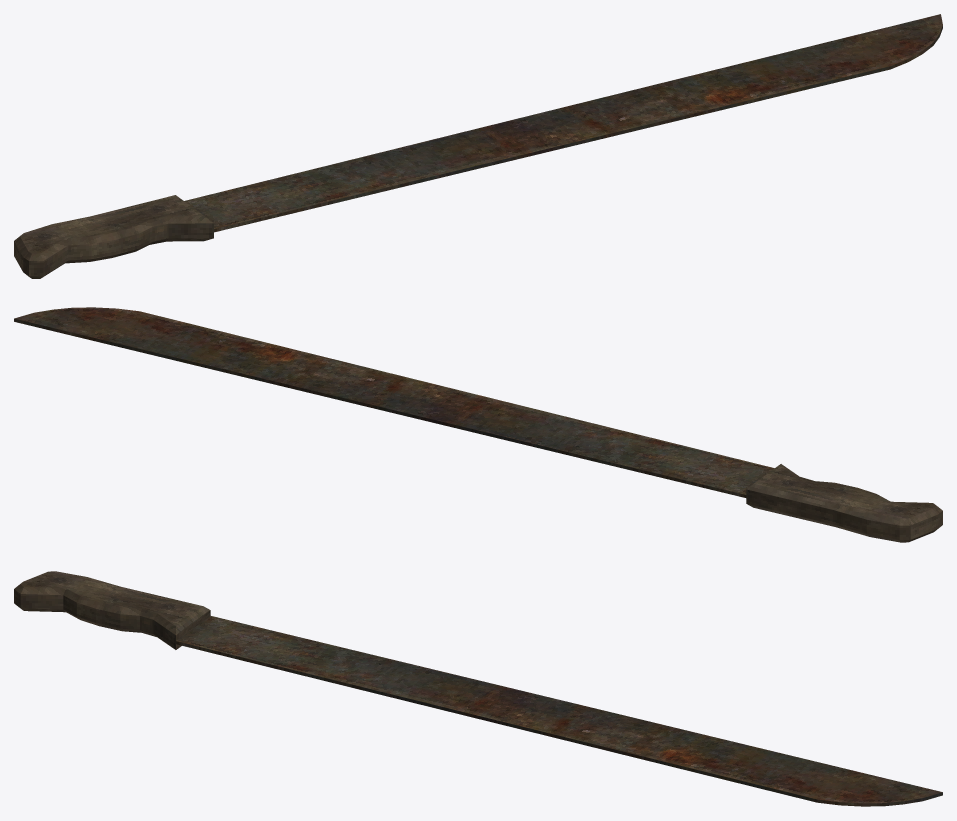
Rendered from machete_mx_1.glb.
3 renders of one model, top to bottom at view 1: azimuth 30°, elevation 25°; view 2: azimuth 150°, elevation 25°; view 3: azimuth 330°, elevation 25°, orthographic. The views are drawn at different scales.
Parts seen in each view (by area): view 1: machete_mx_1; view 2: machete_mx_1; view 3: machete_mx_1.
Boxes of the visible parts, left/top/right/bottom form: machete_mx_1: left=14, top=14, right=942, bottom=278; machete_mx_1: left=14, top=307, right=942, bottom=542; machete_mx_1: left=14, top=571, right=942, bottom=806.
Bounding box in the file's own units: 1.18 × 0.03 × 0.0882.
1 material, 1 textured.
